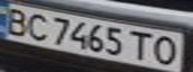4: (66, 19, 90, 51)
5: (103, 25, 130, 57)
6: (84, 21, 106, 54)
7: (45, 15, 72, 46)
B: (0, 4, 33, 36)
C: (21, 10, 51, 40)
O: (148, 34, 184, 66)
T: (127, 28, 157, 62)
